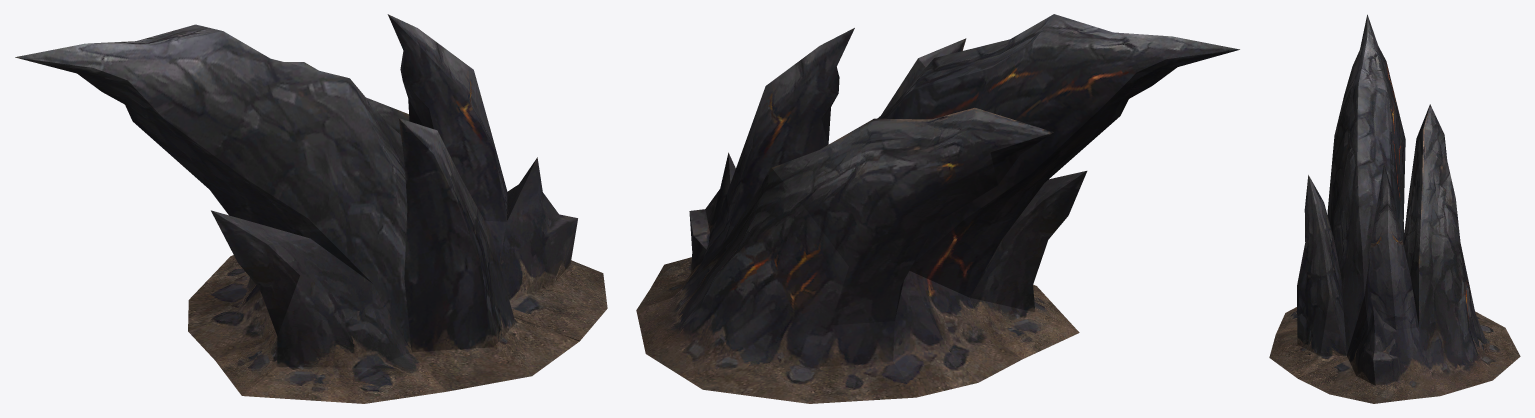
The model's file is ruisi_guaishi02.FBX.
3 views of the same model, side by side, from view 1: azimuth 30°, elevation 25°; view 2: azimuth 150°, elevation 25°; view 3: azimuth 270°, elevation 25° (orthographic). The views are drawn at different scales.
Parts seen in each view (by area): view 1: ruisi_guaishi02; view 2: ruisi_guaishi02; view 3: ruisi_guaishi02.
Part boxes in pixels (x1=…): ruisi_guaishi02: x1=15, y1=14, x2=607, y2=403; ruisi_guaishi02: x1=636, y1=14, x2=1239, y2=403; ruisi_guaishi02: x1=1269, y1=14, x2=1520, y2=403.
Size of the model in its own units: 90.69 by 53.19 by 55.76.
